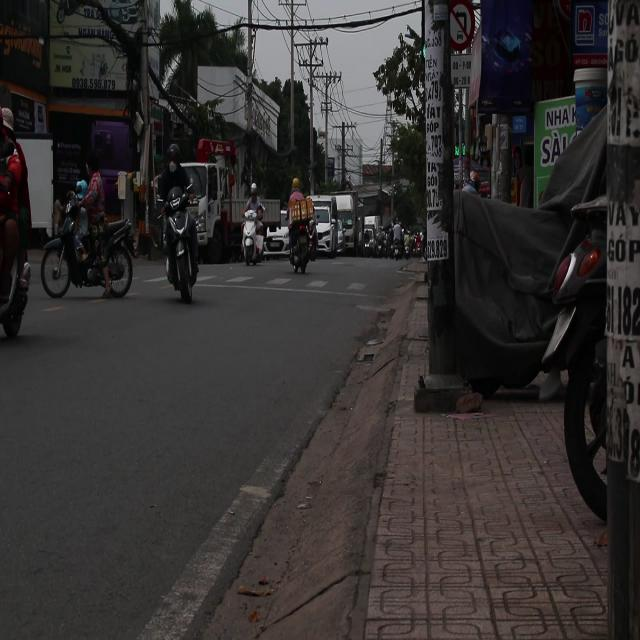motorbike: (38, 205, 136, 302), (154, 176, 202, 304), (238, 200, 272, 292), (284, 195, 318, 273)
truck: (313, 194, 356, 258)
